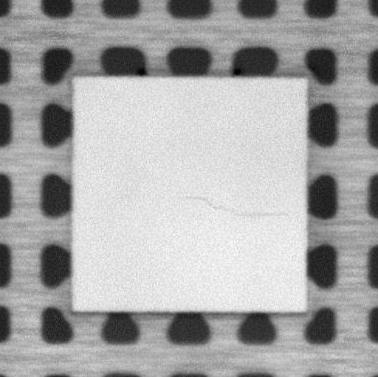DIE_CRACK: (184, 194, 289, 217)
